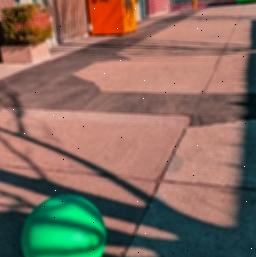algae: (19, 190, 107, 257)
